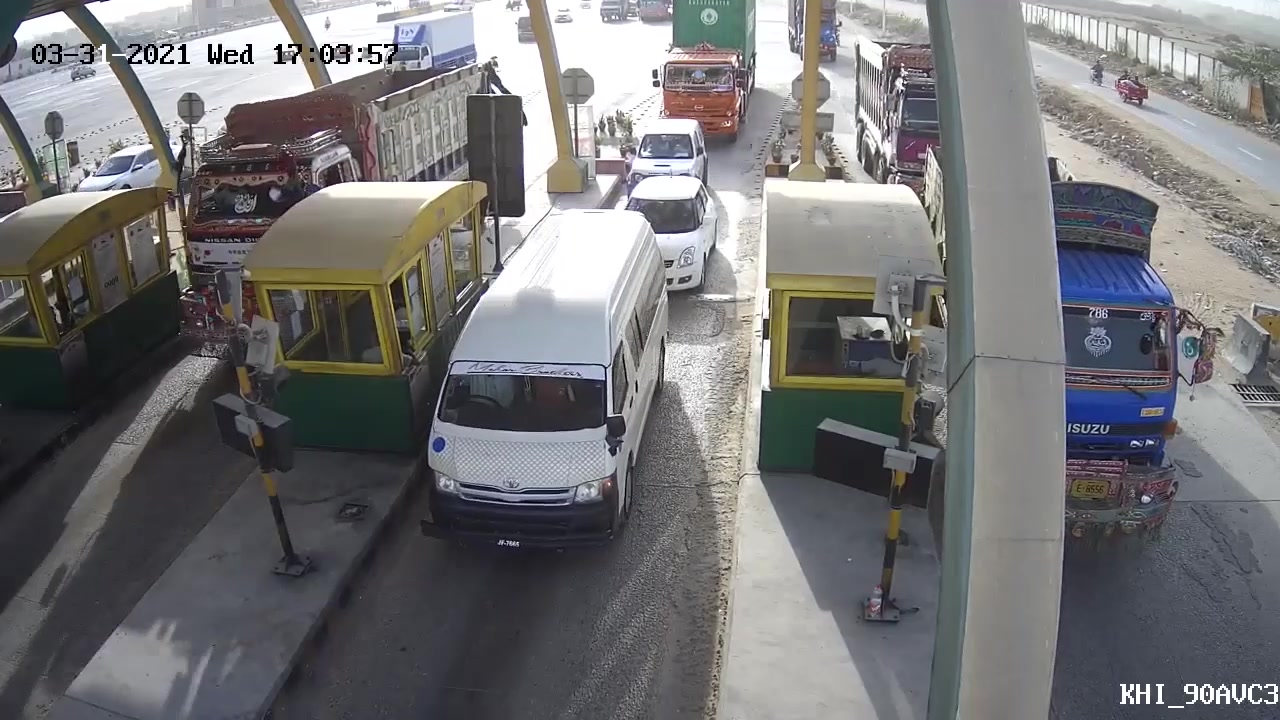F2: (411, 204, 686, 556)
